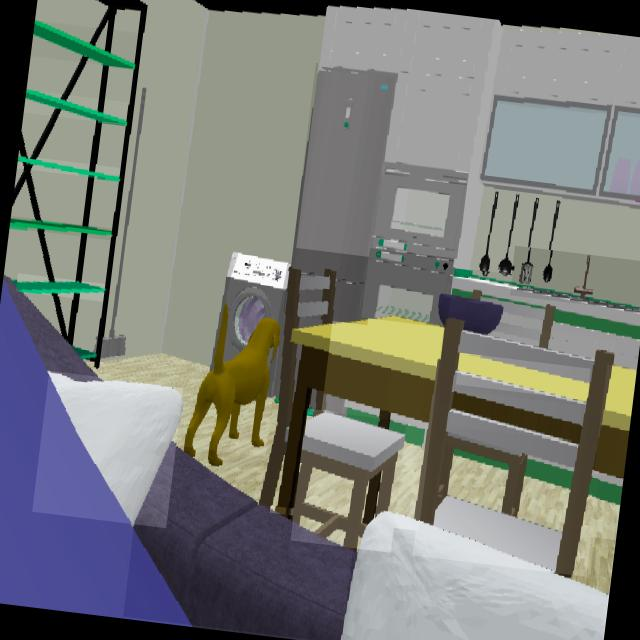cabinet: (320, 6, 640, 269)
chair: (416, 319, 613, 573), (260, 270, 336, 504), (293, 412, 404, 548)
fridge: (291, 69, 397, 322)
microwave: (373, 162, 468, 258)
oven: (362, 248, 453, 325)
pillow: (342, 512, 607, 640), (49, 374, 181, 523)
shelf: (33, 21, 134, 67), (25, 90, 126, 125), (18, 156, 119, 179), (10, 220, 111, 238), (16, 280, 104, 294)
sink: (511, 254, 640, 310)
sofa: (133, 445, 356, 640), (3, 277, 97, 381)
table: (277, 317, 441, 515), (453, 393, 579, 441), (458, 356, 587, 400), (594, 366, 636, 477)
